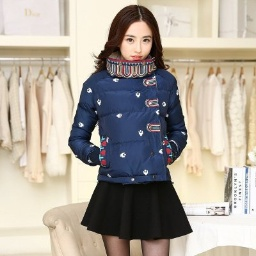face: (97, 4, 167, 69)
